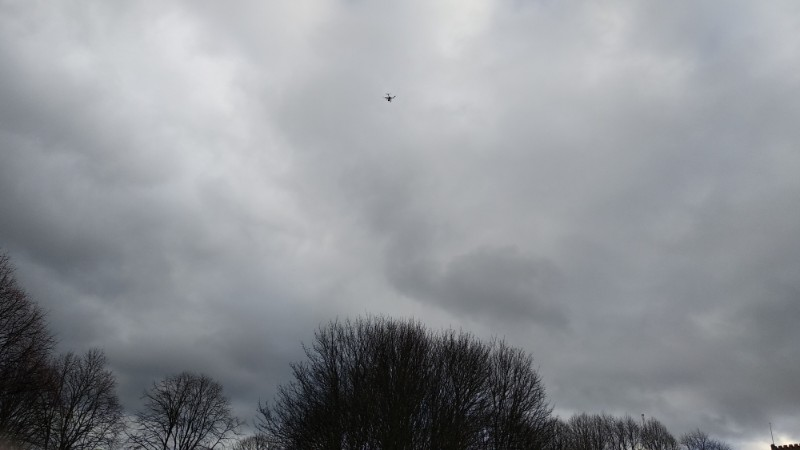drone: (383, 93, 398, 103)
